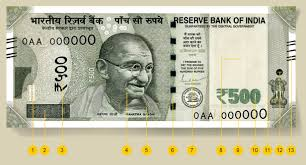fiveHundred: (19, 26, 272, 108)
